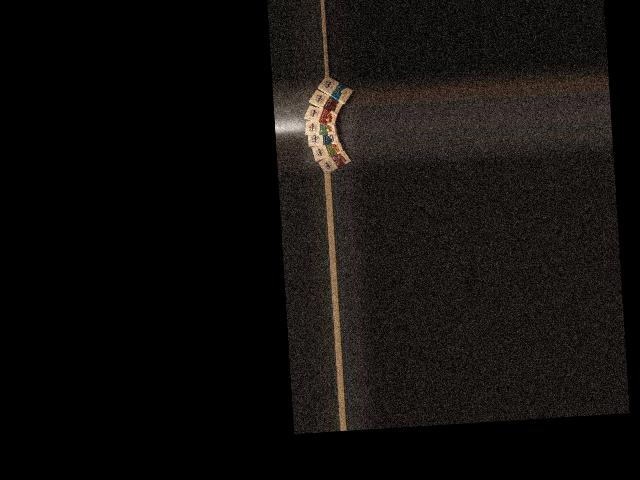chocolate: (316, 75, 356, 106)
